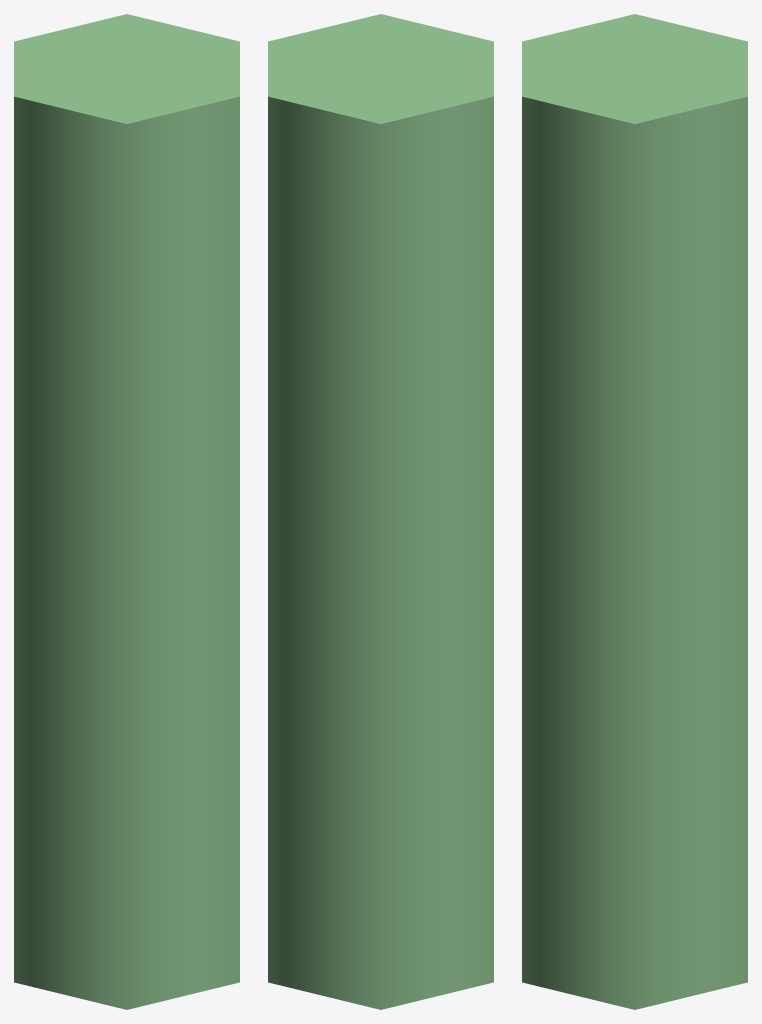
File: plant_generic_01.glb
The picture shows the model from 3 angles, left to right: view 1: azimuth 30°, elevation 25°; view 2: azimuth 150°, elevation 25°; view 3: azimuth 270°, elevation 25°; orthographic projection.
Parts seen in each view (by area): view 1: plant_generic; view 2: plant_generic; view 3: plant_generic.
Boxes of the visible parts, bbox=[...] form: plant_generic: bbox=[14, 14, 239, 1009]; plant_generic: bbox=[268, 14, 493, 1009]; plant_generic: bbox=[522, 14, 747, 1009].
Size of the model in its own units: 0.4 by 1.5 by 0.3464.
